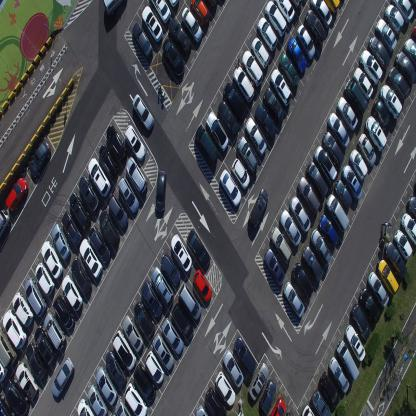car: (112, 328, 136, 372), (336, 339, 360, 382), (51, 356, 74, 400), (186, 228, 210, 270), (205, 110, 229, 152), (79, 236, 103, 278), (2, 308, 27, 348), (313, 144, 338, 184), (3, 377, 29, 415), (87, 156, 110, 198), (25, 340, 48, 382), (326, 193, 350, 233), (194, 124, 218, 164), (124, 155, 148, 195), (168, 17, 192, 57), (305, 160, 329, 200), (151, 265, 174, 306), (87, 224, 110, 265), (384, 240, 407, 281), (223, 80, 245, 122), (236, 136, 259, 176), (254, 102, 277, 142), (24, 277, 47, 317), (15, 362, 38, 402), (162, 37, 185, 77), (376, 257, 399, 297), (298, 176, 321, 216), (344, 78, 368, 116), (245, 117, 267, 158), (140, 280, 163, 319), (264, 0, 287, 39), (160, 318, 184, 355), (219, 168, 241, 208), (310, 228, 332, 268), (78, 174, 100, 214), (70, 257, 92, 297), (41, 240, 63, 280), (44, 311, 66, 351), (34, 325, 56, 365), (283, 281, 306, 319), (178, 282, 201, 320), (171, 302, 194, 340), (133, 363, 156, 401), (234, 336, 257, 374), (364, 114, 387, 152), (359, 48, 382, 86), (367, 35, 391, 71), (105, 123, 127, 162), (141, 4, 163, 43), (344, 323, 366, 362), (278, 209, 301, 246), (5, 176, 28, 213), (240, 49, 263, 86), (327, 112, 350, 149), (69, 191, 90, 231), (106, 349, 127, 389), (96, 366, 117, 406), (223, 348, 244, 388), (170, 234, 192, 272), (292, 262, 314, 300), (270, 226, 292, 264), (122, 315, 144, 353), (302, 244, 324, 282), (124, 123, 146, 161), (28, 141, 50, 179), (152, 333, 174, 371), (132, 93, 154, 131), (132, 22, 154, 60), (270, 67, 292, 105), (52, 294, 75, 330), (290, 195, 311, 234), (118, 175, 139, 214), (248, 189, 269, 228), (248, 363, 269, 402), (329, 355, 350, 394), (12, 290, 34, 327), (181, 6, 203, 43), (278, 52, 300, 89), (304, 9, 326, 46), (214, 370, 236, 407), (368, 271, 390, 308), (341, 164, 363, 201), (380, 83, 402, 120), (264, 247, 285, 285), (395, 49, 416, 87), (218, 100, 240, 136), (262, 86, 284, 122), (232, 66, 254, 102), (388, 66, 410, 102), (322, 131, 344, 167), (124, 381, 147, 415), (320, 370, 340, 409), (99, 208, 119, 246), (134, 301, 154, 339), (62, 210, 82, 248), (62, 274, 82, 312), (286, 36, 306, 74), (350, 303, 370, 341), (360, 286, 380, 324), (107, 194, 128, 230), (257, 16, 278, 52), (337, 96, 358, 132), (375, 18, 397, 52), (258, 378, 277, 416), (98, 142, 118, 178), (51, 224, 71, 260), (35, 260, 55, 296), (0, 326, 17, 368), (372, 98, 393, 132), (353, 66, 374, 100), (160, 251, 180, 286), (318, 214, 339, 247), (204, 386, 227, 416), (297, 23, 316, 59), (192, 268, 212, 302), (357, 132, 377, 166), (87, 383, 108, 415), (250, 36, 270, 69), (145, 350, 164, 384), (230, 158, 250, 190), (384, 3, 404, 35), (391, 0, 415, 26), (310, 0, 332, 28), (189, 0, 210, 29), (349, 148, 368, 180), (394, 229, 412, 261), (400, 212, 416, 247), (312, 388, 332, 415), (334, 179, 352, 209), (154, 170, 166, 214), (274, 0, 295, 23), (150, 0, 170, 23), (403, 37, 416, 69), (0, 209, 11, 244), (101, 0, 124, 15), (0, 393, 15, 415), (114, 398, 132, 416), (76, 397, 94, 415), (269, 397, 287, 415), (406, 195, 416, 222), (323, 0, 340, 15), (202, 0, 219, 11), (288, 0, 305, 11), (194, 403, 208, 415), (301, 403, 315, 415), (0, 362, 8, 382), (410, 22, 416, 43), (168, 0, 180, 10)
